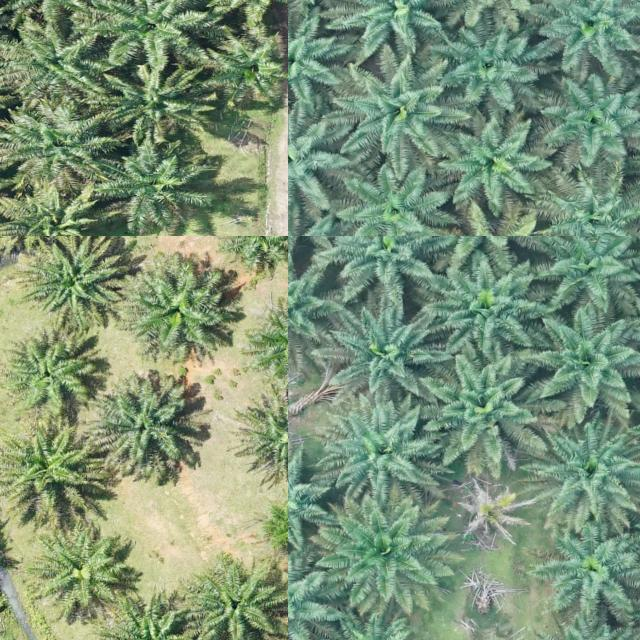Ganoderma: (464, 494, 516, 536)
